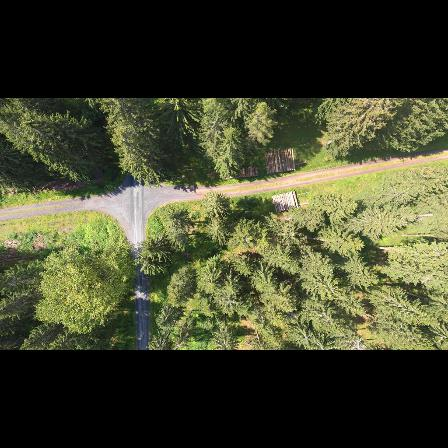Sick: (216, 290, 245, 314)
